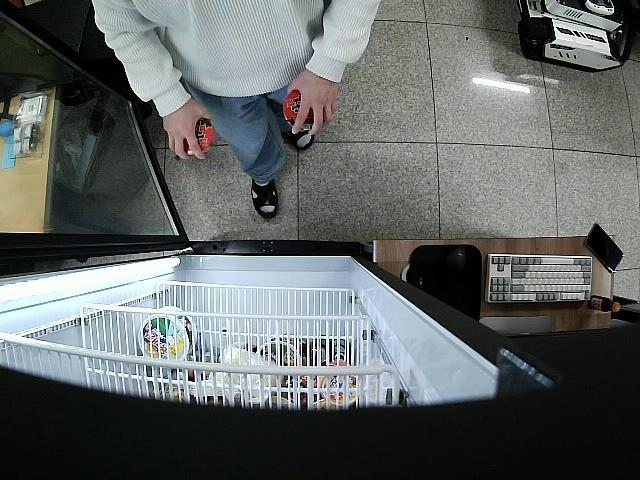02_shinRamen_S: (180, 116, 216, 156), (282, 88, 316, 129)
